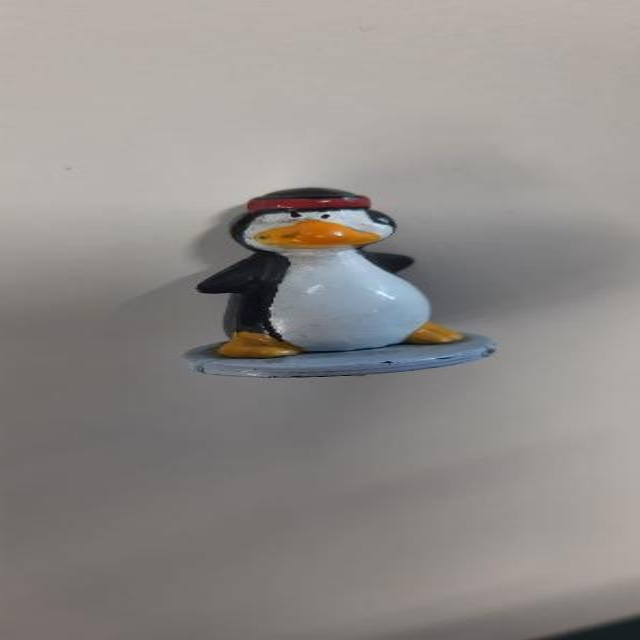Penguin: (176, 182, 501, 383)
